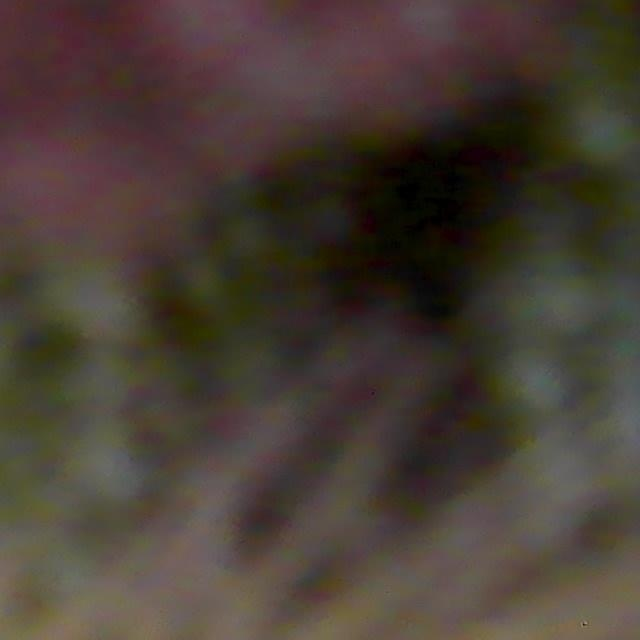SeaGrape: (564, 95, 640, 175), (496, 346, 575, 421)
